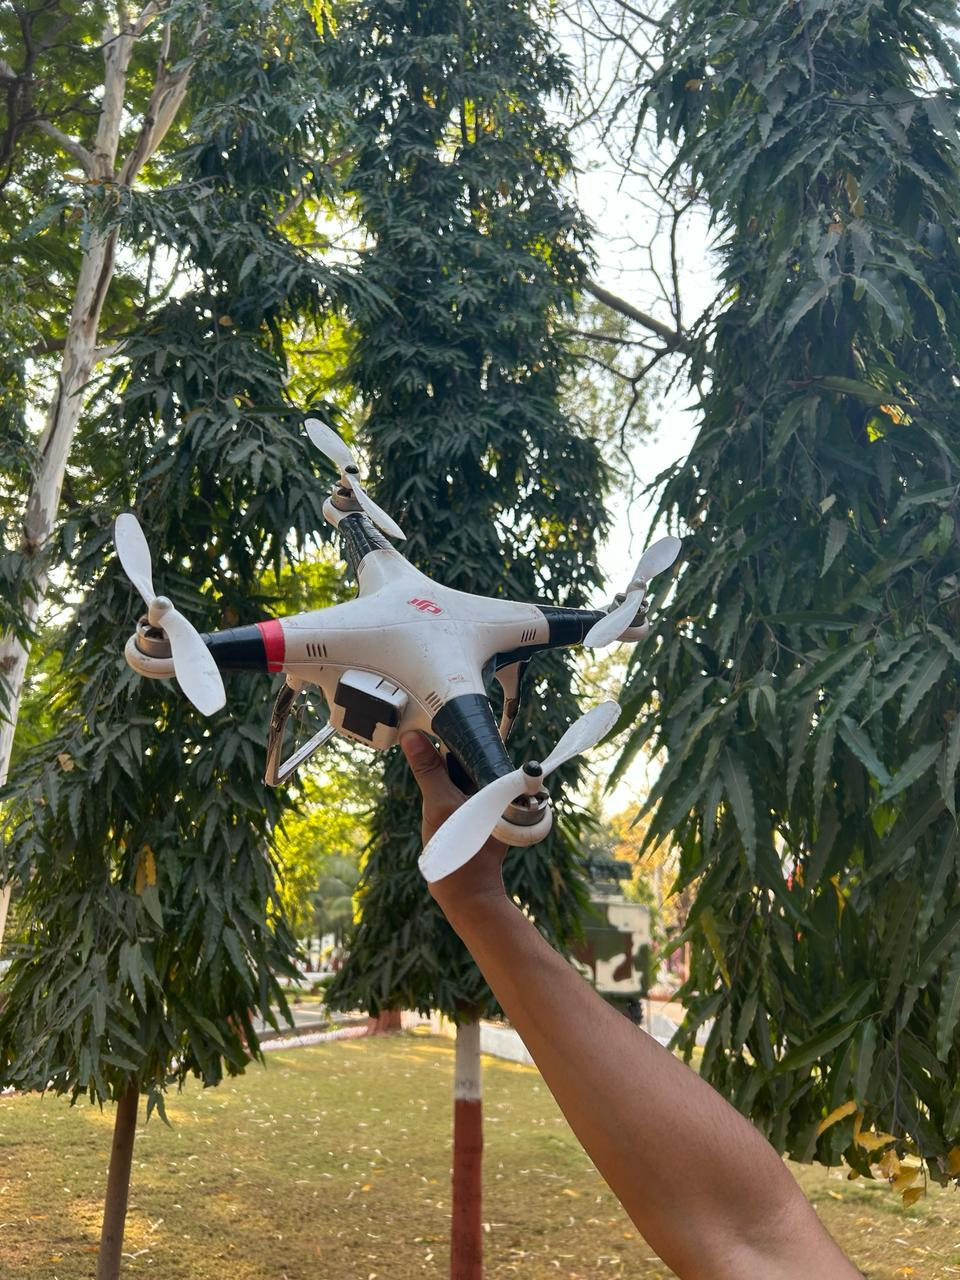drone: (94, 407, 727, 908)
